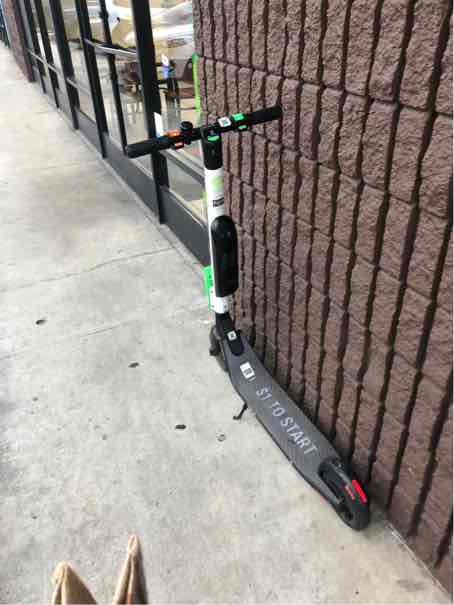scooter: (109, 84, 400, 537)
